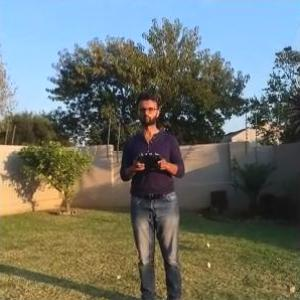follow: (113, 87, 189, 299)
